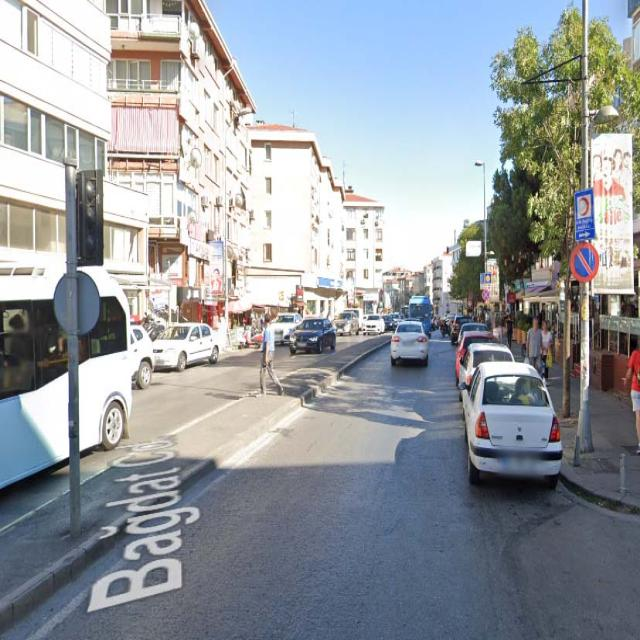parkyasak: (571, 242, 599, 283)
